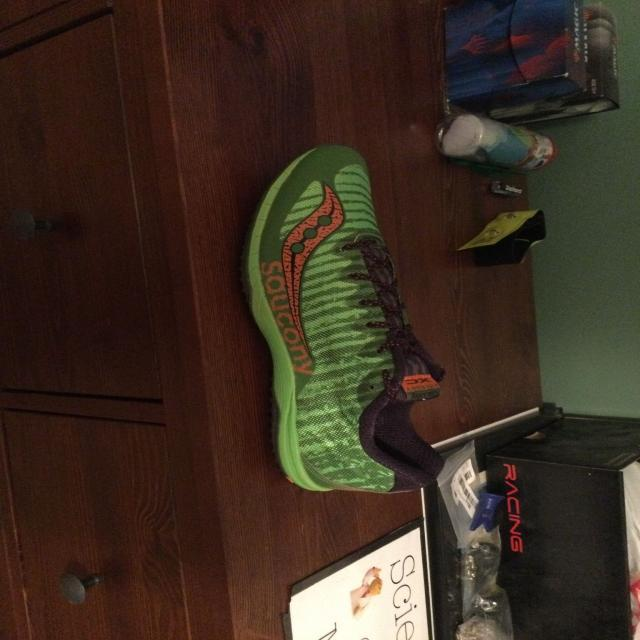shoe: (238, 137, 452, 497)
